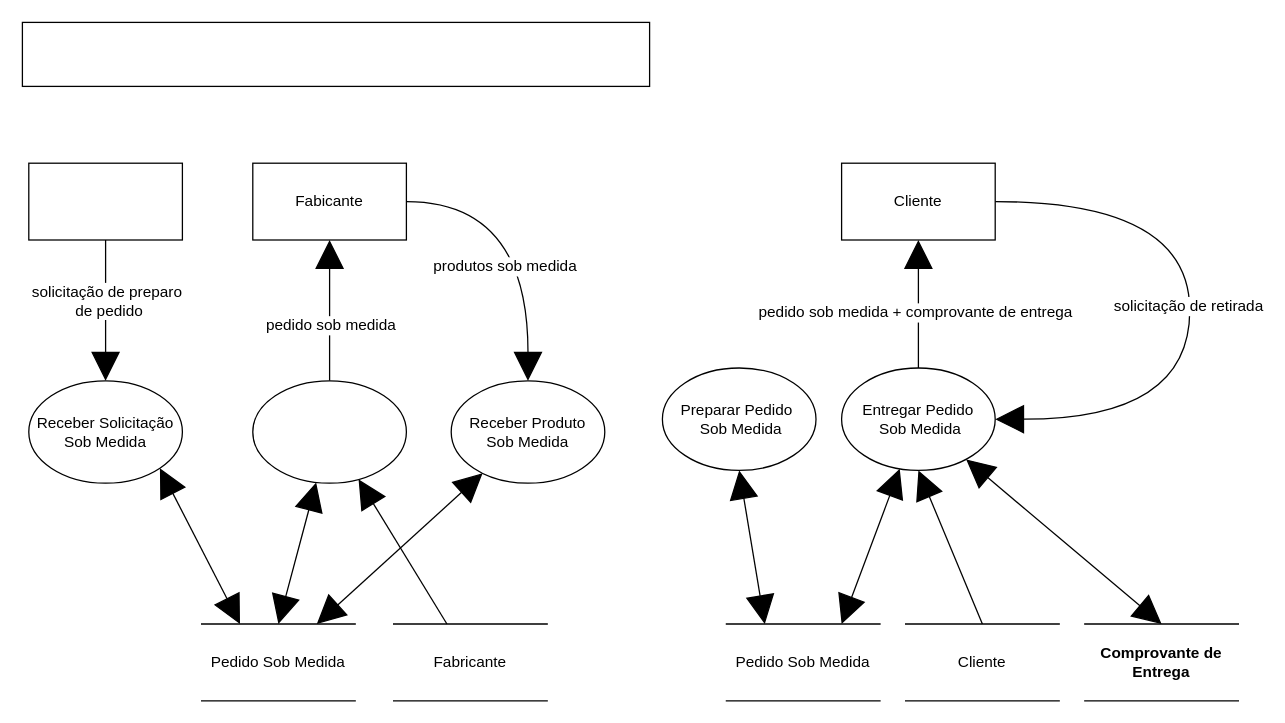
The diagram is 1285 pixels wide and 723 high, and some of its shapes have lost their labels. The centre of each missing label's shape, as x and y in pixels:
DFD - Tratar Empacotamento Sob Medida: the point at 335,53
Financeiro: the point at 105,201
Solicitar Fabricação: the point at 329,431
